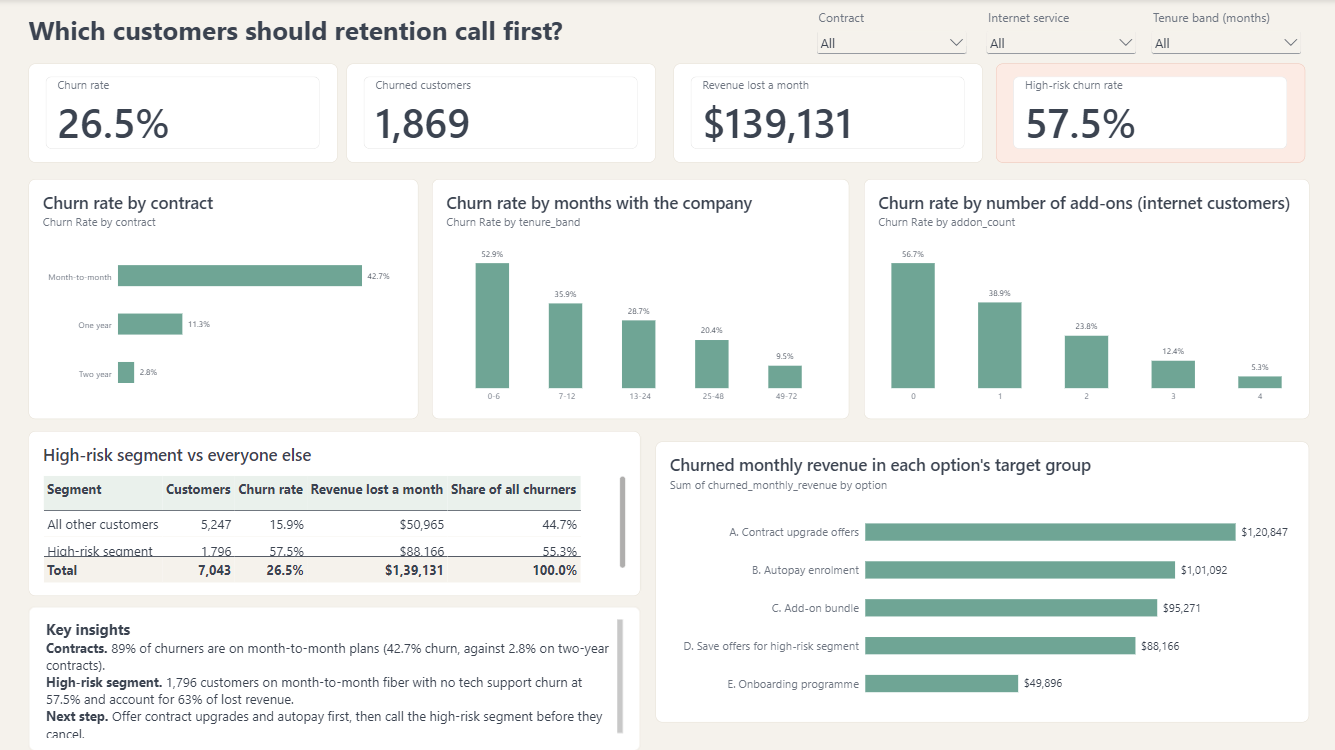

What the dashboard file says about the page in this screenshot:
{"tool":"powerbi","page":{"name":"Page 1","canvas":[1920,1080],"ordinal":0},"visuals":[{"type":"textbox","box":[40,20,1100,56],"z":1000},{"type":"textbox","box":[40,78,1100,30],"z":2000},{"type":"slicer","fields":{"Values":["telco_prepared.contract"]},"box":[1169.2,15.1,226.5,77.7],"z":3000},{"type":"slicer","fields":{"Values":["telco_prepared.internet_service"]},"box":[1412.9,15.1,226,64],"z":4000},{"type":"slicer","fields":{"Values":["telco_prepared.tenure_band"]},"box":[1650.2,15.1,226,64],"z":5000},{"type":"cardVisual","fields":{"Data":["telco_prepared.Churn Rate"]},"box":[41,92.8,444.4,142.4],"z":6000},{"type":"cardVisual","fields":{"Data":["telco_prepared.Churned Customers Text"]},"box":[498.3,92.8,444.4,142.4],"z":7000},{"type":"cardVisual","fields":{"Data":["telco_prepared.Churned Monthly Revenue Text"]},"box":[968.6,92.8,444.4,142.4],"z":8000},{"type":"cardVisual","fields":{"Data":["telco_prepared.High-Risk Churn Rate"]},"box":[1432.4,92.8,444.4,142.4],"z":9000},{"type":"clusteredBarChart","title":"Churn rate by contract","fields":{"Category":["telco_prepared.contract"],"Y":["telco_prepared.Churn Rate"]},"box":[41,258.9,560.9,345.1],"z":10000},{"type":"clusteredColumnChart","title":"Churn rate by months with the company","fields":{"Category":["telco_prepared.tenure_band"],"Y":["telco_prepared.Churn Rate"]},"box":[621.3,258.9,599.7,345.1],"z":11000},{"type":"clusteredColumnChart","title":"Churn rate by number of add-ons (internet customers)","fields":{"Category":["telco_prepared.addon_count"],"Y":["telco_prepared.Churn Rate"]},"box":[1242.5,258.9,640.7,345.1],"z":12000},{"type":"tableEx","title":"High-risk segment vs everyone else","fields":{"Values":["telco_prepared.segment","telco_prepared.Customers","telco_prepared.Churn Rate","telco_prepared.Churned Monthly Revenue","telco_prepared.Share of All Churners"]},"box":[41,621.3,880.1,237.3],"z":13000},{"type":"textbox","box":[41,873.7,880,208],"z":14000},{"type":"clusteredBarChart","title":"Churned monthly revenue in each option''s target group","fields":{"Category":["retention_options.option"],"Y":["Sum(retention_options.churned_monthly_revenue)"]},"box":[942.7,636.4,940,404],"z":15000}]}

Visuals, with their boxes in screenshot pixels (x1, y1, x2, y2), scaled from the page's 1920x1080 canvas onto the 1335x750 screenshot:
textbox: x1=28, y1=14, x2=793, y2=53
textbox: x1=28, y1=54, x2=793, y2=75
slicer - telco_prepared.contract: x1=813, y1=10, x2=970, y2=64
slicer - telco_prepared.internet_service: x1=982, y1=10, x2=1140, y2=55
slicer - telco_prepared.tenure_band: x1=1147, y1=10, x2=1305, y2=55
cardVisual - telco_prepared.Churn Rate: x1=29, y1=64, x2=338, y2=163
cardVisual - telco_prepared.Churned Customers Text: x1=346, y1=64, x2=655, y2=163
cardVisual - telco_prepared.Churned Monthly Revenue Text: x1=673, y1=64, x2=982, y2=163
cardVisual - telco_prepared.High-Risk Churn Rate: x1=996, y1=64, x2=1305, y2=163
"Churn rate by contract" clusteredBarChart: x1=29, y1=180, x2=419, y2=419
"Churn rate by months with the company" clusteredColumnChart: x1=432, y1=180, x2=849, y2=419
"Churn rate by number of add-ons (internet customers)" clusteredColumnChart: x1=864, y1=180, x2=1309, y2=419
"High-risk segment vs everyone else" tableEx: x1=29, y1=431, x2=640, y2=596
textbox: x1=29, y1=607, x2=640, y2=749
"Churned monthly revenue in each option''s target group" clusteredBarChart: x1=655, y1=442, x2=1309, y2=722
